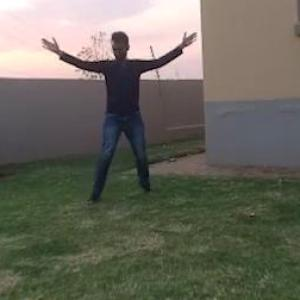takeoff: (17, 5, 183, 200)
